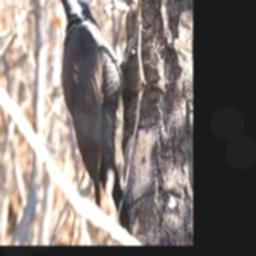Woodpecker: (50, 0, 127, 233)
